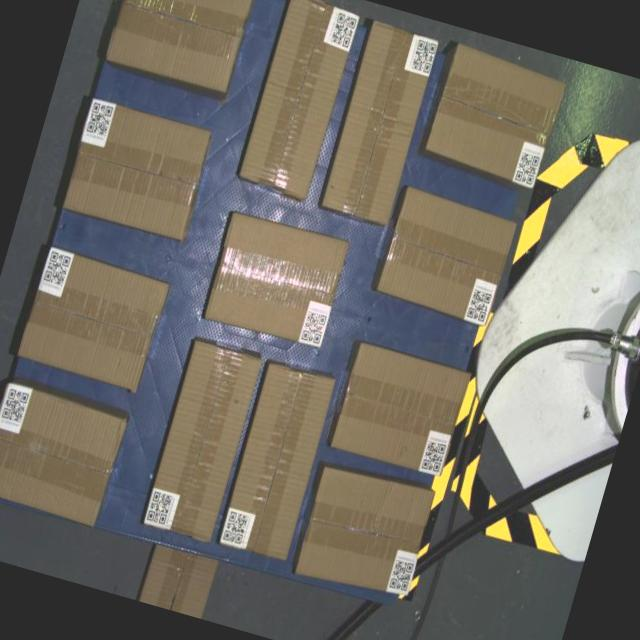box: (236, 0, 362, 201), (319, 20, 440, 226), (142, 340, 262, 543), (218, 360, 338, 562), (15, 246, 170, 394), (61, 97, 216, 242), (422, 42, 568, 190), (202, 208, 350, 352), (294, 460, 437, 604), (375, 185, 519, 326), (330, 340, 470, 478), (0, 381, 129, 527), (104, 0, 258, 93)
